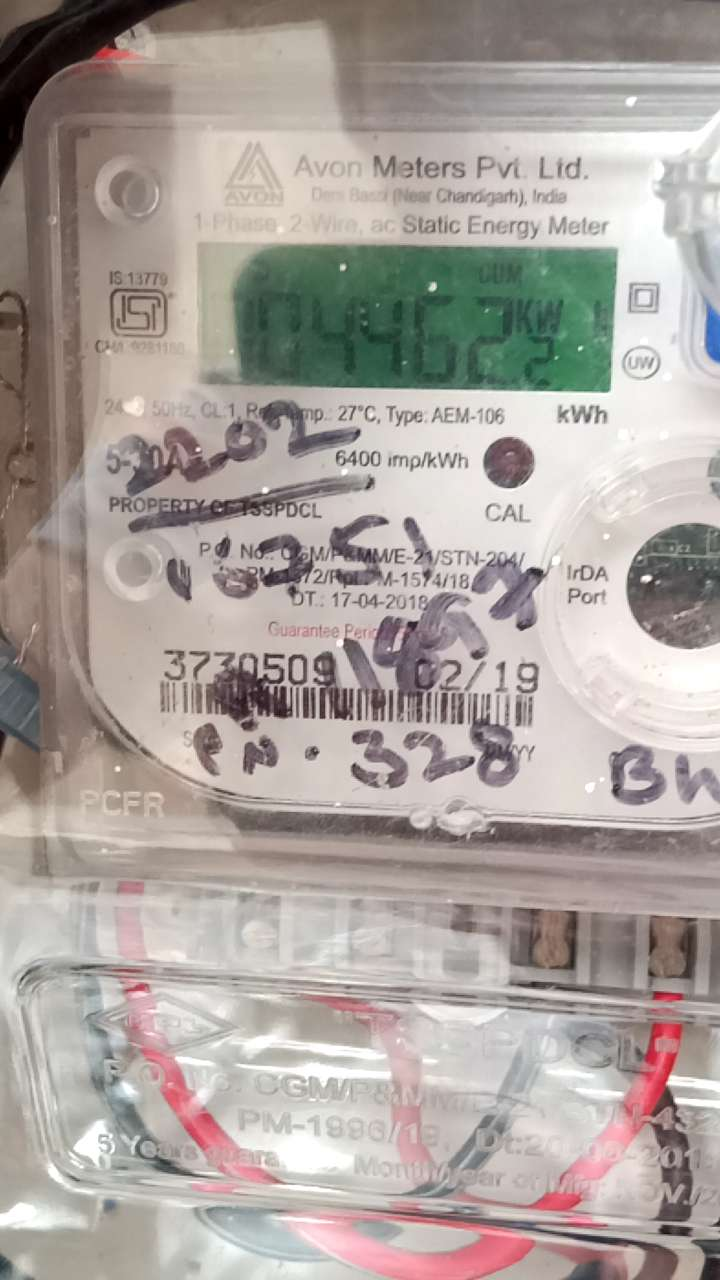meter_serial_number: (157, 645, 346, 687)
